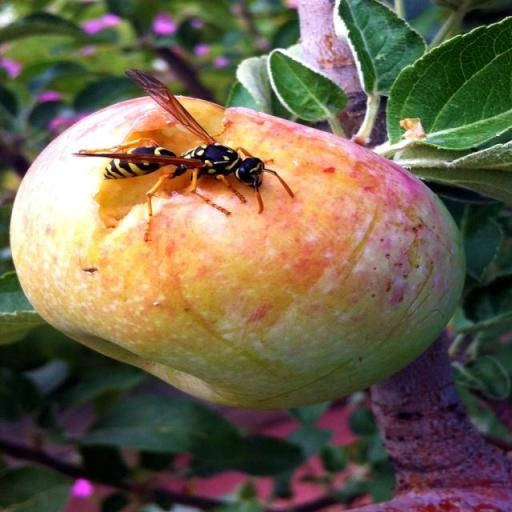fruit: (11, 99, 463, 408)
